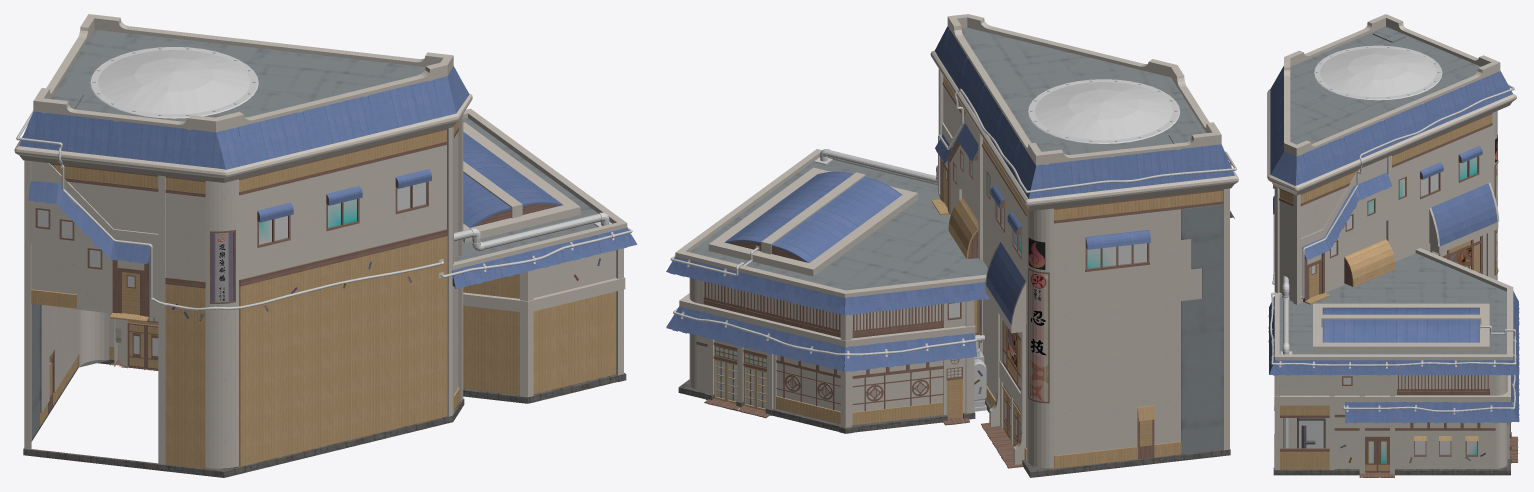
File: SM_ENV_KNVLLG_AreaG_Building_E.fbx
3 views of the same model, side by side, from view 1: azimuth 30°, elevation 25°; view 2: azimuth 150°, elevation 25°; view 3: azimuth 270°, elevation 25° (orthographic). The views are drawn at different scales.
Visible parts, largest first — view 1: SM_ENV_KNVLLG_AreaG_Building_E.mo; view 2: SM_ENV_KNVLLG_AreaG_Building_E.mo; view 3: SM_ENV_KNVLLG_AreaG_Building_E.mo.
Boxes of the visible parts, x1,y1,x2,y2 form: SM_ENV_KNVLLG_AreaG_Building_E.mo: (14,14,637,477); SM_ENV_KNVLLG_AreaG_Building_E.mo: (666,14,1238,477); SM_ENV_KNVLLG_AreaG_Building_E.mo: (1267,14,1519,477).
Size of the model in its own units: 7724 by 4759 by 4044.
